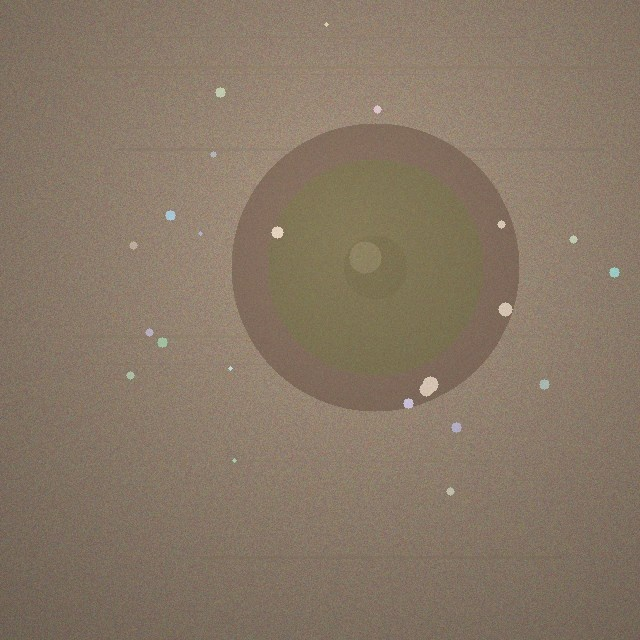overburn: (231, 123, 519, 411)
